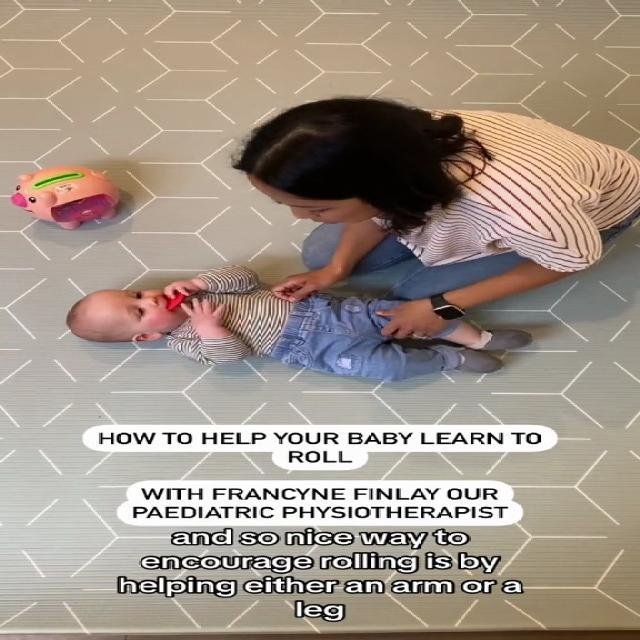baby: (57, 262, 541, 392)
